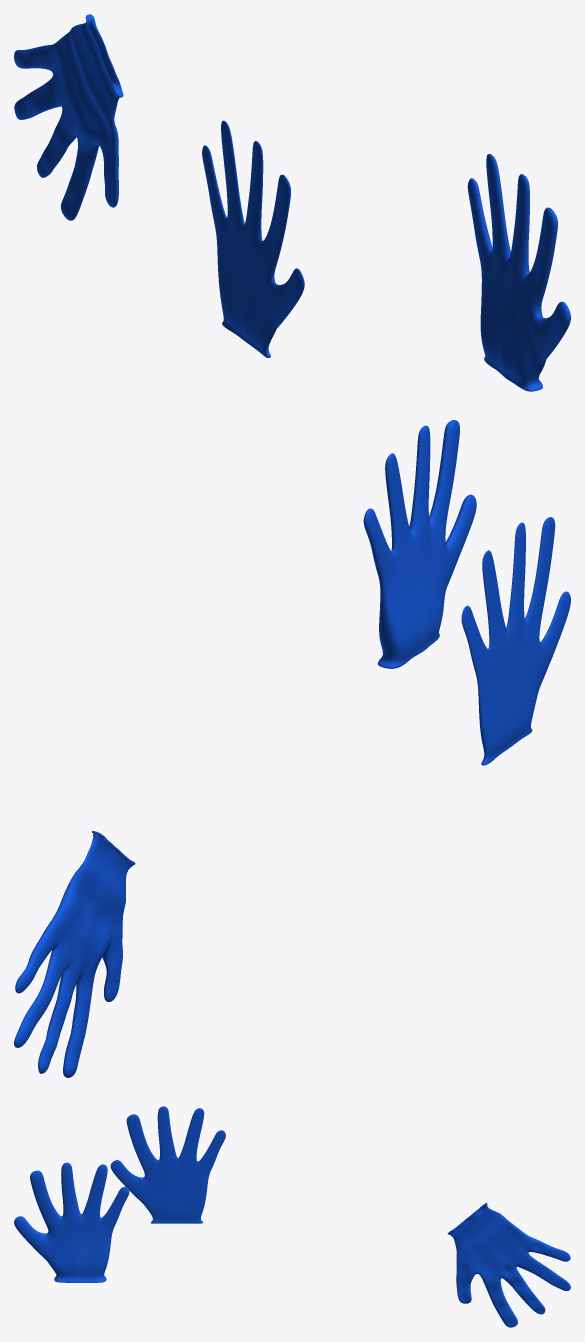
The model's file is rubberGloveFlat 1.fbx.
The picture shows the model from 3 angles, top to bottom: view 1: azimuth 30°, elevation 25°; view 2: azimuth 150°, elevation 25°; view 3: azimuth 270°, elevation 25°; orthographic projection. The views are drawn at different scales.
Visible parts, largest first — view 1: Cube.002, Cube.001, Cube.003; view 2: Cube.002, Cube.001, Cube.003; view 3: Cube.002, Cube.001, Cube.003.
Boxes of the visible parts, x1,y1,x2,y2 form: Cube.002: [467, 154, 570, 391]; Cube.001: [14, 14, 123, 220]; Cube.003: [202, 120, 304, 357]; Cube.002: [363, 420, 476, 668]; Cube.001: [14, 831, 135, 1077]; Cube.003: [461, 517, 570, 765]; Cube.002: [14, 1162, 129, 1282]; Cube.001: [447, 1203, 570, 1327]; Cube.003: [110, 1106, 225, 1223].
Bounding box in the file's own units: 1063 × 1727 × 4646.
